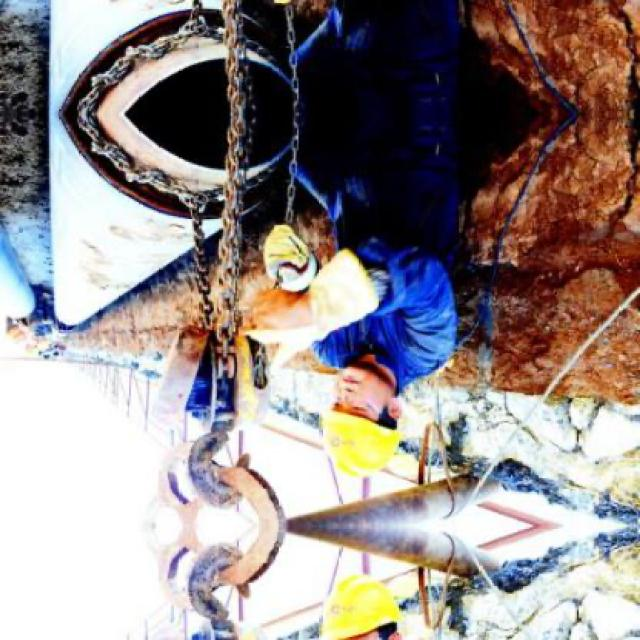con casco: (322, 328, 420, 476)
